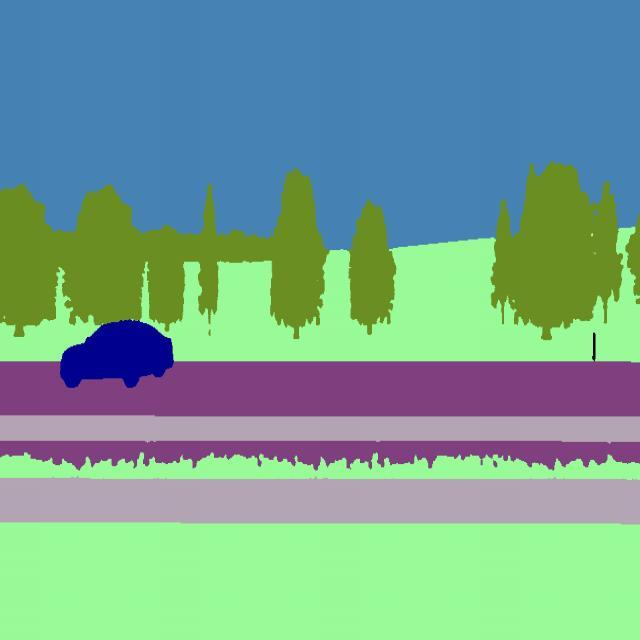safe: (56, 312, 176, 386)
